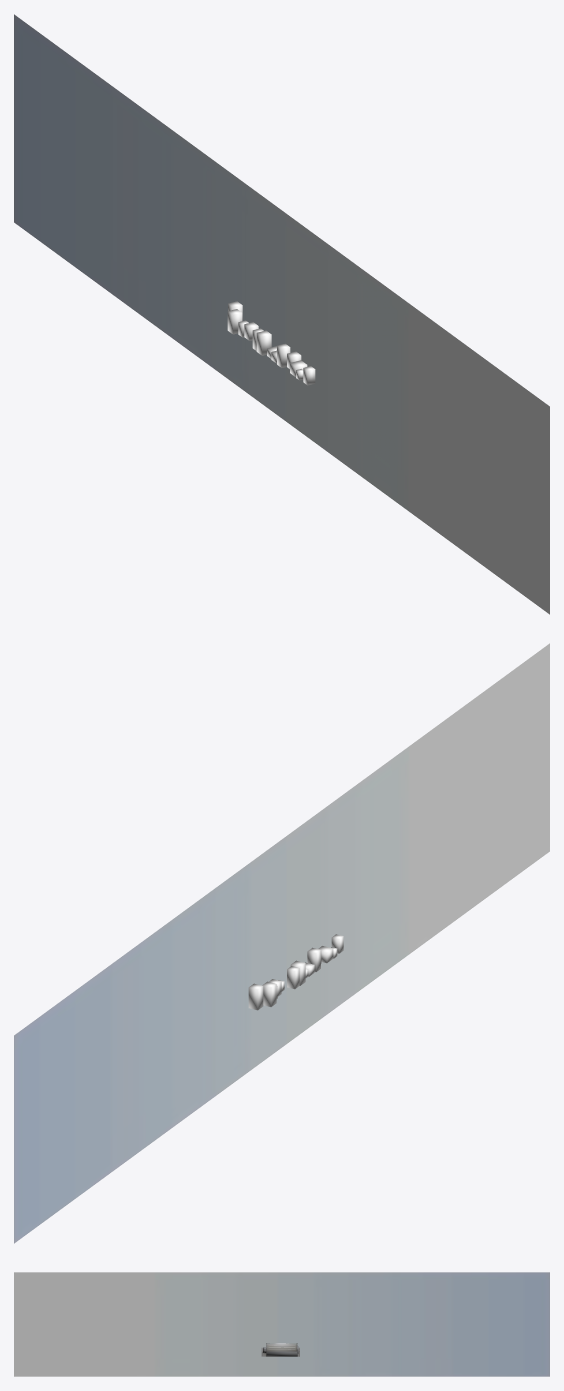
File: office-lite.glb
3 views of the same model, one above another, from view 1: azimuth 30°, elevation 25°; view 2: azimuth 150°, elevation 25°; view 3: azimuth 270°, elevation 25° (orthographic). The views are drawn at different scales.
Parts seen in each view (by area): view 1: sky; view 2: sky; view 3: sky, room.
Boxes of the visible parts, x1,y1,x2,y2 form: sky: [14, 14, 549, 614]; sky: [14, 643, 549, 1243]; sky: [14, 1272, 549, 1376]; room: [261, 1343, 299, 1356].
Bounding box in the file's own units: 48.33 × 90.01 × 420.
8 materials, 4 textured.
